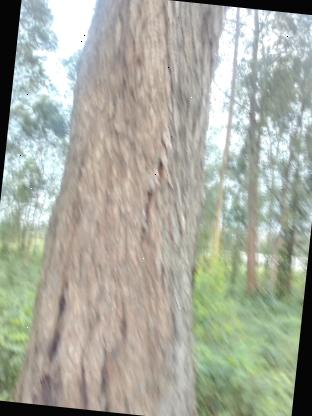tree: (6, 0, 241, 416)
